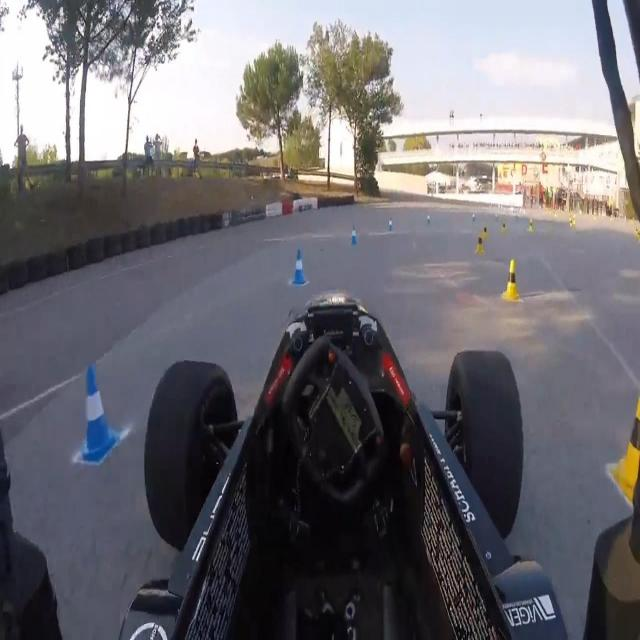blue_cone: (74, 358, 123, 465), (289, 244, 316, 292), (346, 216, 362, 257), (384, 212, 395, 238)
yellow_cone: (498, 252, 526, 306), (476, 230, 489, 260)
